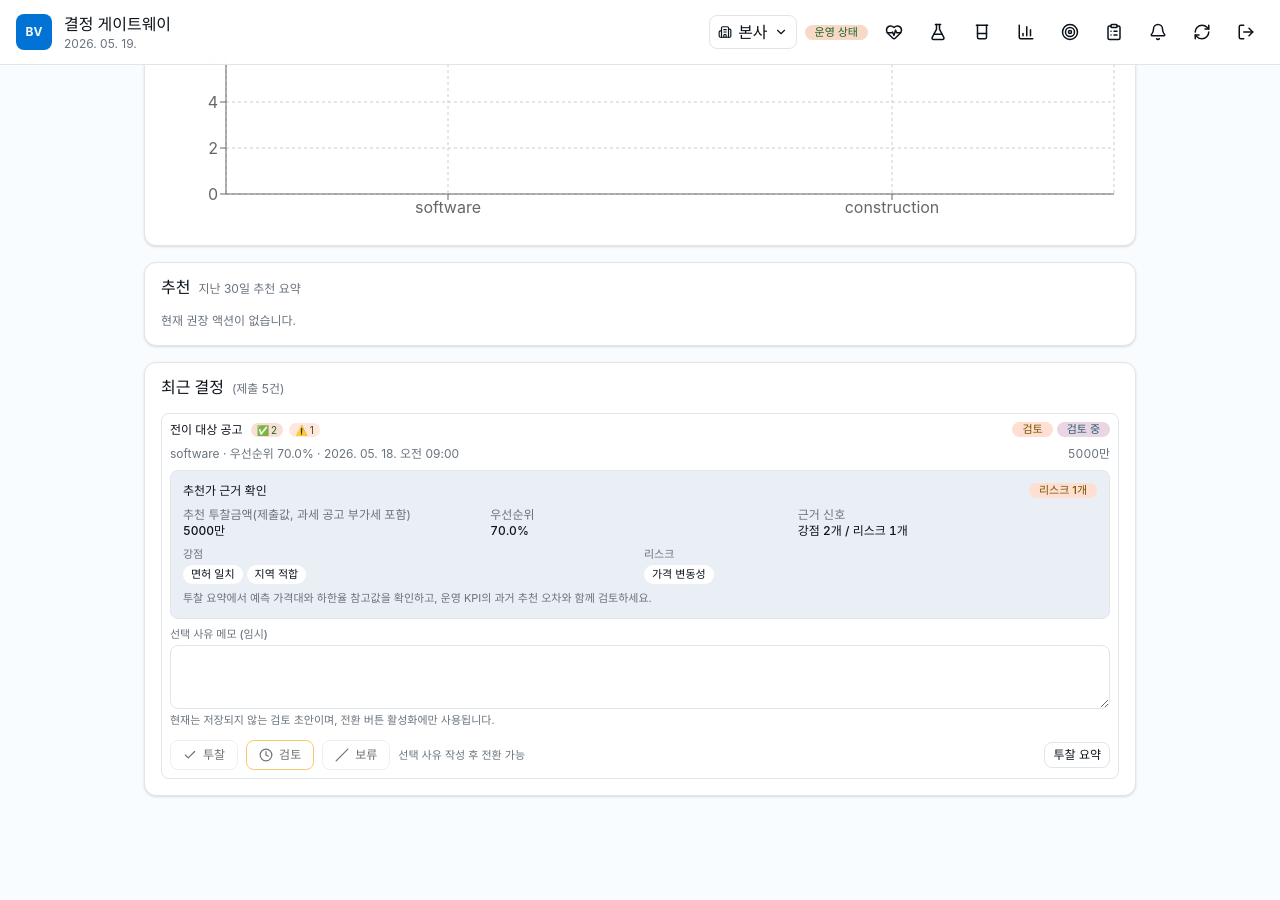
DecisionsScreen › 투찰 버튼을 누르면 POST /actions(body action=submit) 요청을 보낸다
(page scrolled)
Check: the text "전이 대상 공고" is shown, box [170, 422, 243, 438]
Type "추천가와 리스크를 확인해 투찰 전환" into the text box named "결정 101 선택 사유 메모".
click(640, 677); type("추천가와 리스크를 확인해 투찰 전환")  # box [170, 645, 1110, 709]
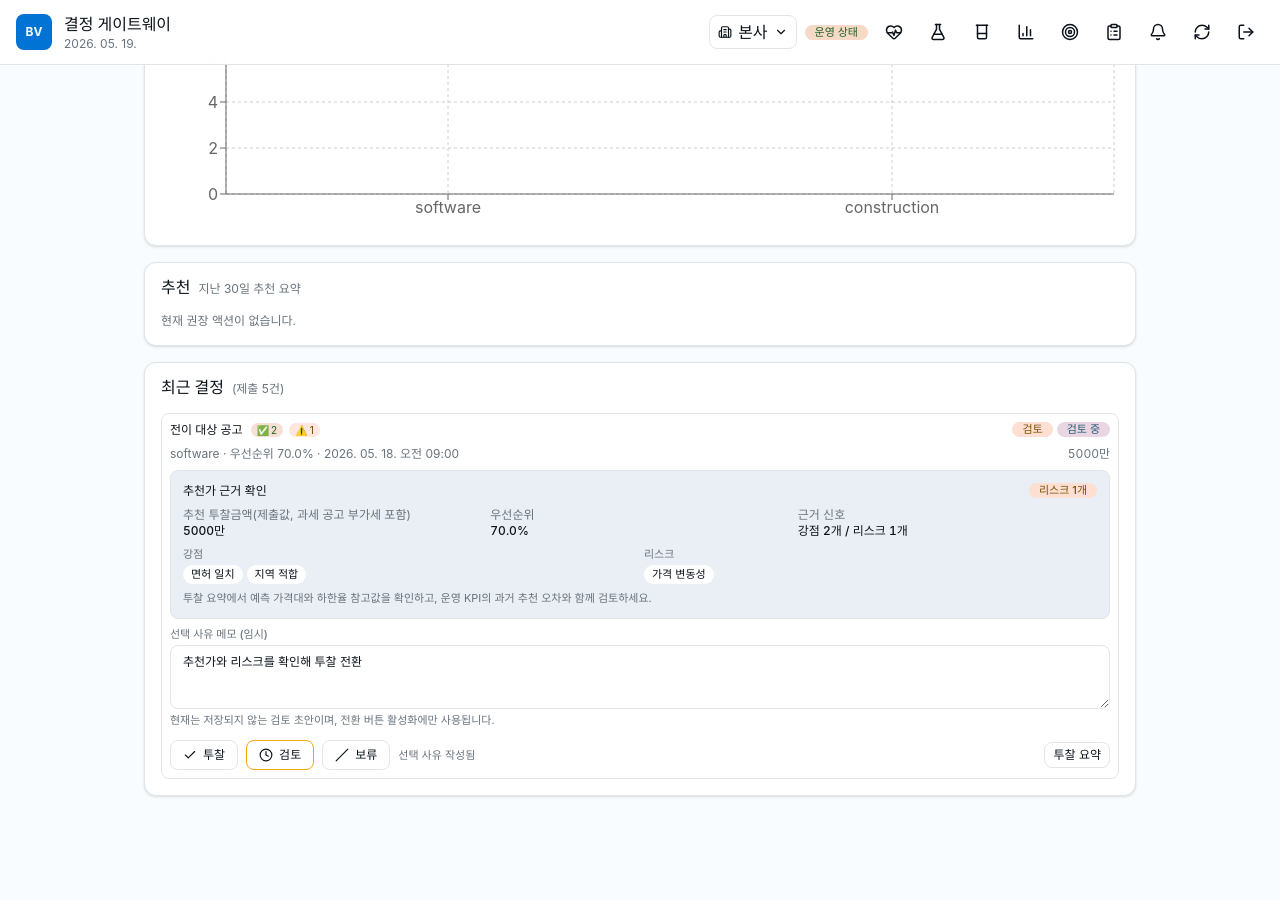
Check: the text "선택 사유 작성됨" is shown, box [398, 748, 475, 762]
Check: the button with aria-label "투찰로 전환" is enabled
Click the button with aria-label "투찰로 전환".
click(204, 755)  # box [170, 740, 238, 770]
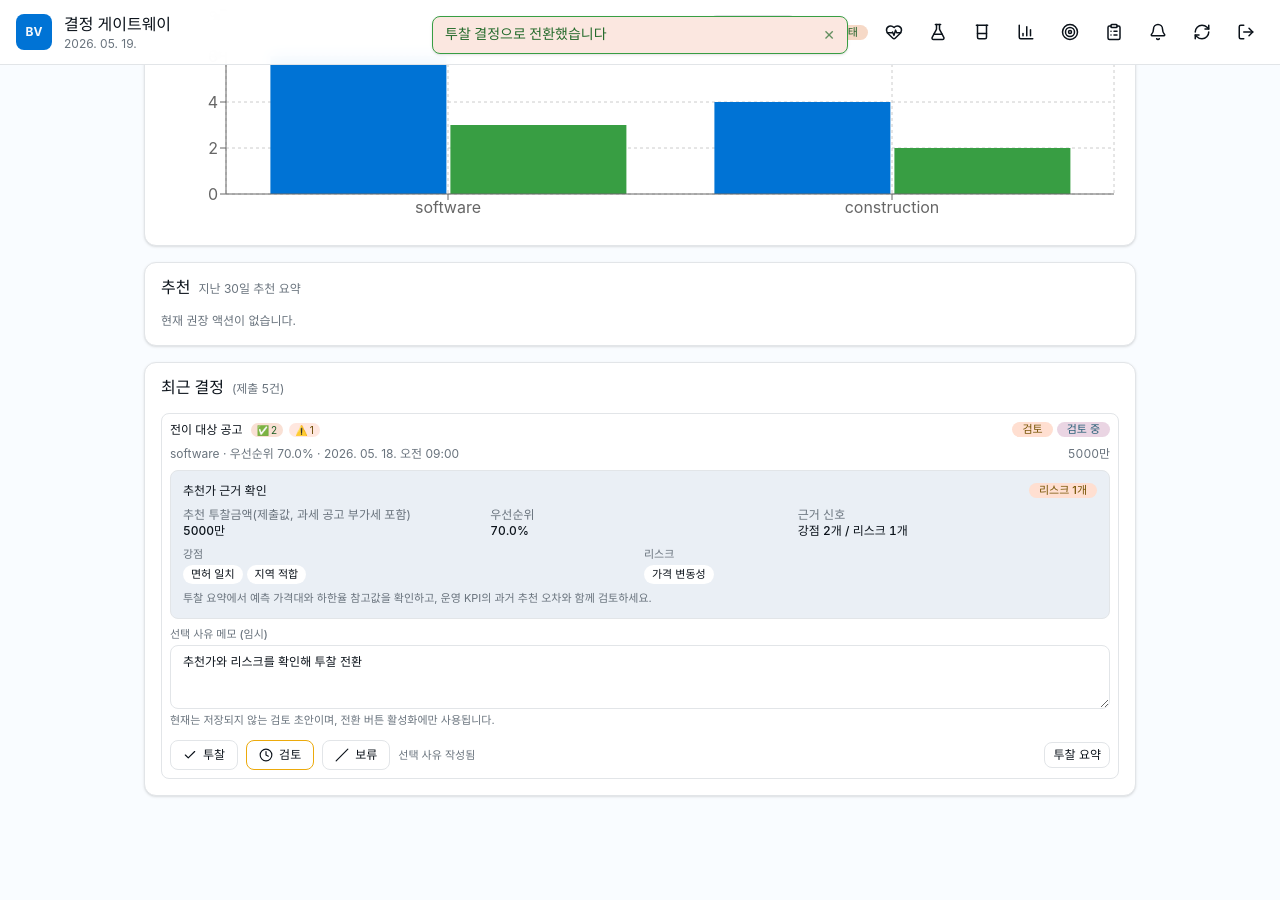
Check: the text "투찰 결정으로 전환했습니다" is shown, box [445, 25, 607, 42]
